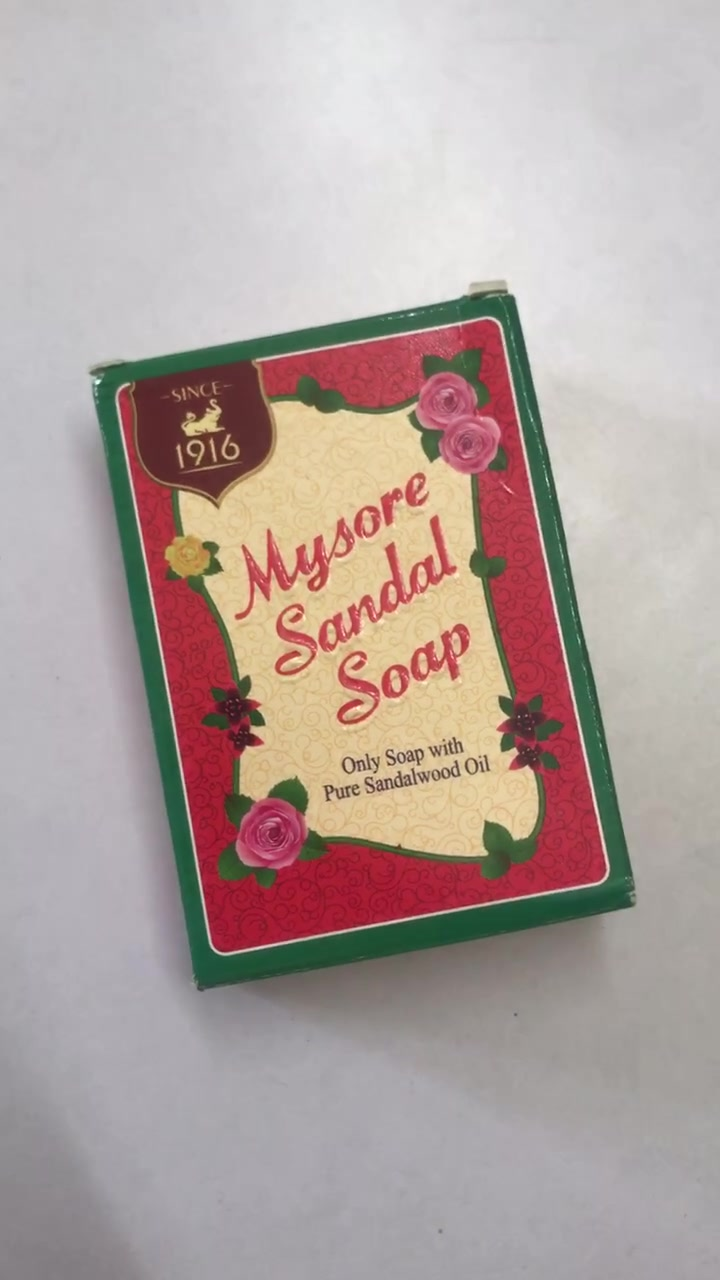mysore sandal soap: (88, 300, 635, 989)
